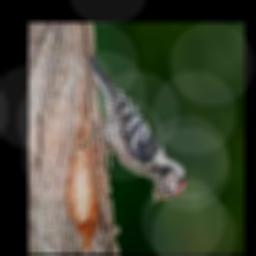Woodpecker: (78, 54, 188, 209)
